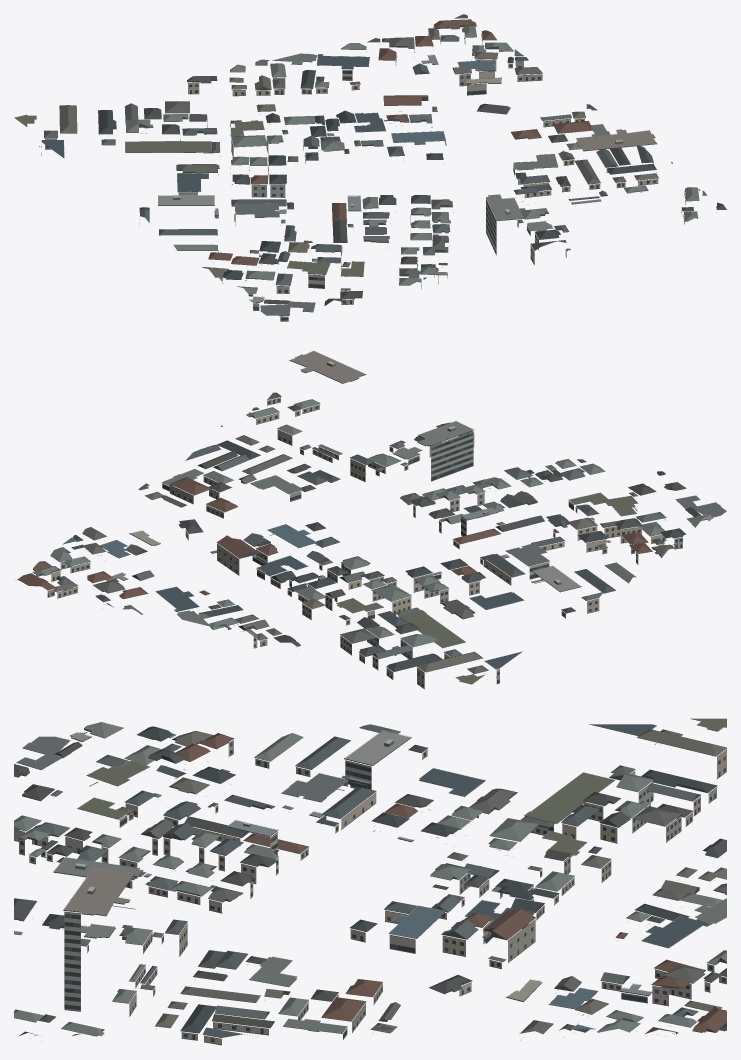
3 renders of one model, top to bottom at view 1: azimuth 30°, elevation 25°; view 2: azimuth 150°, elevation 25°; view 3: azimuth 270°, elevation 25°, orthographic. The views are drawn at different scales.
Parts seen in each view (by area): view 1: r1-c1; view 2: r1-c1; view 3: r1-c1.
Part boxes in pixels (box(x1,y1,x2,y2)): r1-c1: box(14, 14, 726, 321); r1-c1: box(16, 351, 726, 689); r1-c1: box(14, 718, 726, 1045).
Size of the model in its own units: 250 by 40.36 by 250.
